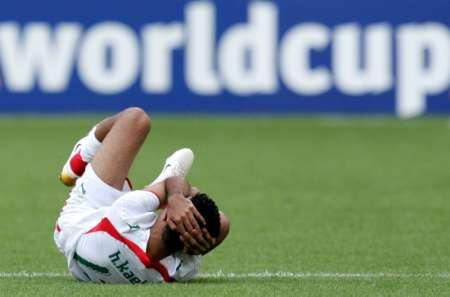fall: (44, 94, 231, 289)
